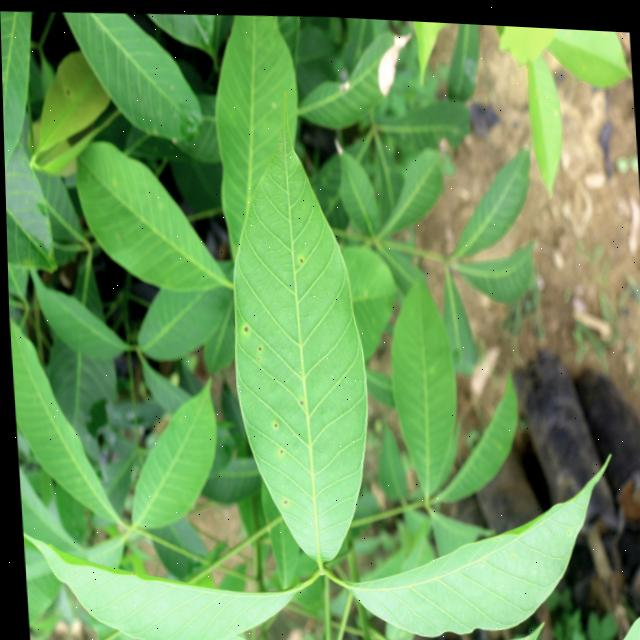Colletotrichum: (242, 324, 246, 328), (256, 344, 258, 348), (298, 397, 300, 401), (272, 421, 274, 424)
